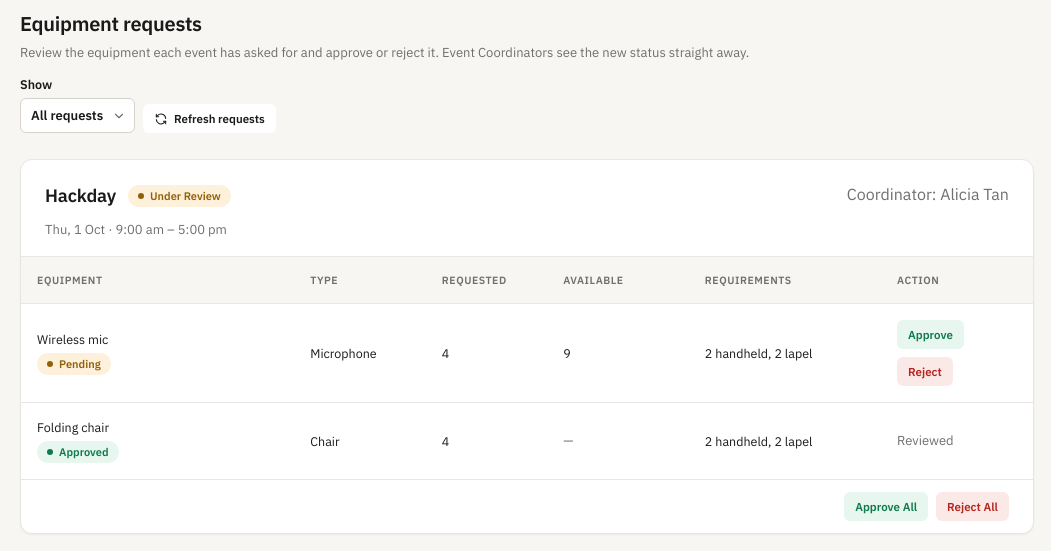
status filter shows only requests matching the selected status
Expected: the text "Folding chair" is shown, [37,419,109,435]
Select "Pending" in the dropdown named "Filter by status" at (78, 116), box [20,98,135,133]
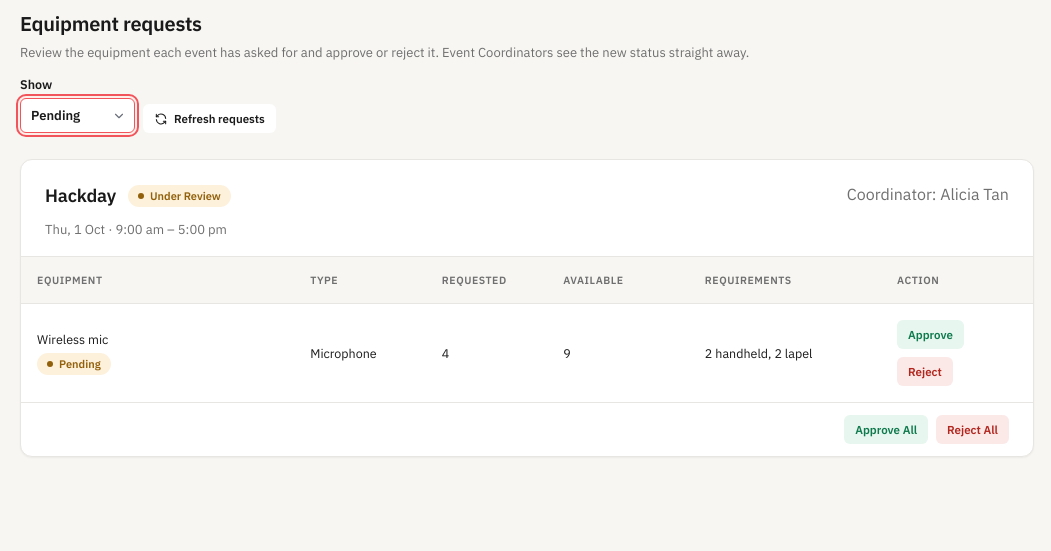
Expected: the text "Wireless mic" is shown, [37,331,108,347]
Expected: the text "Folding chair" is gone
